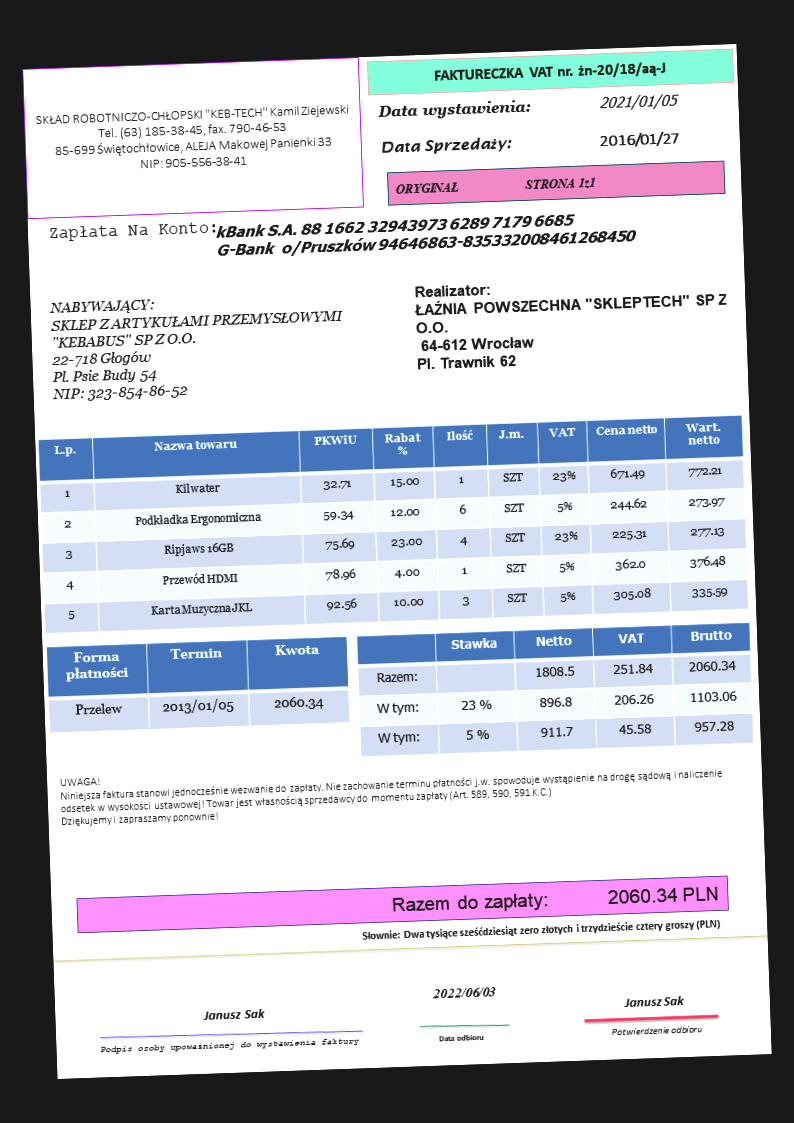Table: (36, 412, 750, 636), (355, 621, 756, 760), (45, 634, 350, 734)
TextBox: (58, 752, 726, 829), (47, 288, 349, 407), (411, 274, 734, 377), (33, 99, 354, 180), (215, 210, 640, 259), (390, 883, 720, 916), (359, 916, 724, 944), (430, 56, 668, 86), (96, 1036, 361, 1057), (394, 174, 599, 199), (376, 96, 531, 126), (47, 219, 218, 243), (377, 134, 514, 159), (598, 90, 681, 115), (597, 128, 681, 150), (199, 1004, 267, 1025), (609, 1024, 705, 1038), (430, 984, 499, 1001), (621, 994, 686, 1010), (435, 1032, 488, 1045)
